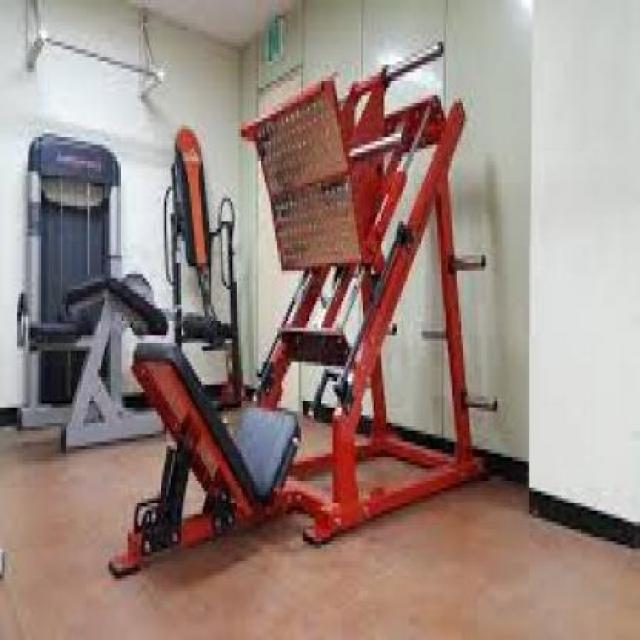leg press: (99, 29, 512, 586)
